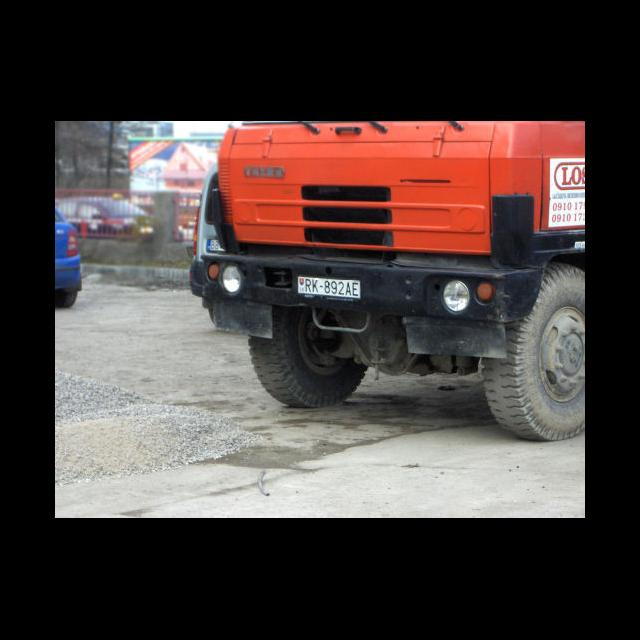Plate: (295, 274, 362, 300)
